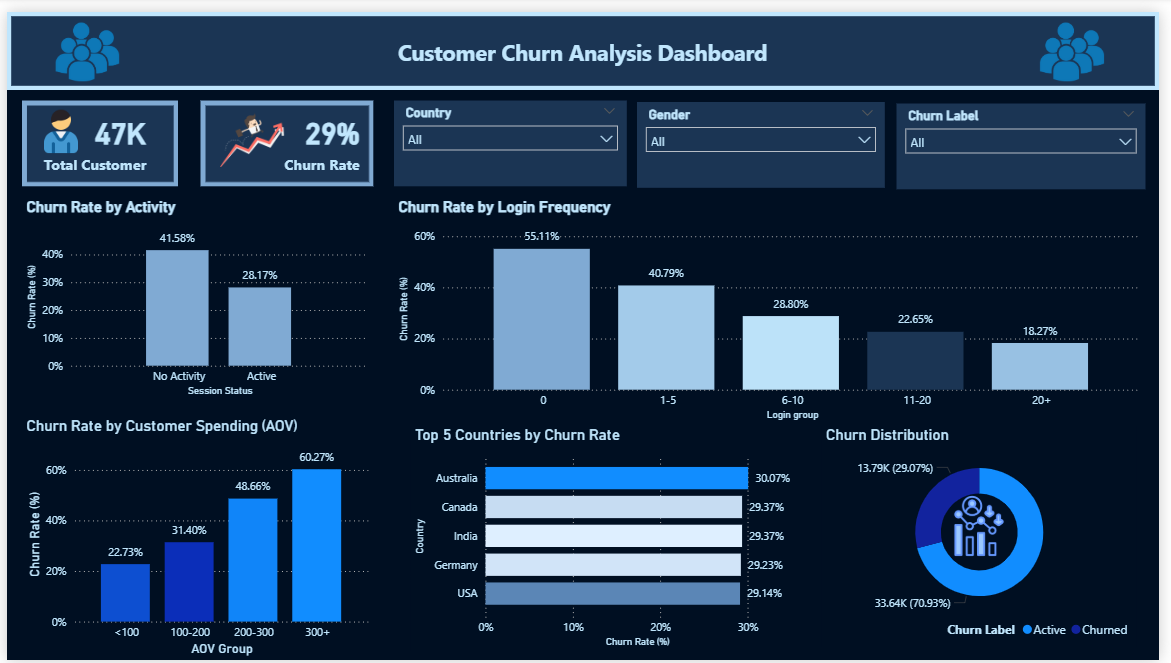

What the dashboard file says about the page in this screenshot:
{"tool":"powerbi","page":{"name":"Page 1","canvas":[1280,720],"ordinal":0},"visuals":[{"type":"advanceCardE03760C5AB684758B56AA29F9E6C257B","fields":{"mainMeasure":["customer_churn_final_202604240323.Total Customer"]},"box":[16.7,98.3,173.3,95],"z":0},{"type":"advanceCardE03760C5AB684758B56AA29F9E6C257B","fields":{"mainMeasure":["customer_churn_final_202604240323.Churn Rate"]},"box":[215,98.3,191.7,95],"z":1000},{"type":"clusteredColumnChart","title":"Churn Rate by Activity","fields":{"Category":["customer_churn_final_202604240323.session_status"],"Y":["Avg(customer_churn_final_202604240323.churned)"]},"box":[16.7,206.7,390,225],"z":2000},{"type":"clusteredColumnChart","title":"Churn Rate by Login Frequency","fields":{"Category":["customer_churn_final_202604240323.login_group"],"Y":["Avg(customer_churn_final_202604240323.churned)"]},"box":[430,206.7,835,251.7],"z":3000},{"type":"clusteredColumnChart","title":"Churn Rate by Customer Spending (AOV)","fields":{"Category":["customer_churn_final_202604240323.aov_group"],"Y":["Avg(customer_churn_final_202604240323.churned)"]},"box":[16.7,450,390,270],"z":4000},{"type":"textbox","box":[0,0,1280,86.7],"z":5000},{"type":"image","box":[43.3,11.7,91.7,65],"z":6000},{"type":"slicer","fields":{"Values":["customer_churn_final_202604240323.country"]},"box":[430,98.3,258.3,95],"z":7000},{"type":"slicer","fields":{"Values":["customer_churn_final_202604240323.gender"]},"box":[700,100,275,95],"z":8000},{"type":"image","box":[1151.7,11.7,83.3,65],"z":9000},{"type":"barChart","title":"Top 5 Countries by Churn Rate","fields":{"Category":["customer_churn_final_202604240323.country"],"Y":["Avg(customer_churn_final_202604240323.churned)"]},"box":[448.3,460,438.3,250],"z":10000},{"type":"donutChart","title":"Churn Distribution","fields":{"Y":["CountNonNull(customer_churn_final_202604240323.churned)"],"Category":["customer_churn_final_202604240323.churn_label"]},"box":[905,460,350,245],"z":11000},{"type":"slicer","fields":{"Values":["customer_churn_final_202604240323.churn_label"]},"box":[988.3,101.7,276.7,95],"z":12000},{"type":"image","box":[26.7,105,66.7,55],"z":12001},{"type":"image","box":[236.7,90,75,88.3],"z":12002},{"type":"image","box":[1045,545,81.7,58.3],"z":12003}]}

Visuals, with their boxes in screenshot pixels (x1, y1, x2, y2), scaled from the page's 1280x720 canvas onto the 1171x663 screenshot:
advanceCardE03760C5AB684758B56AA29F9E6C257B - customer_churn_final_202604240323.Total Customer: BBox(15, 91, 174, 178)
advanceCardE03760C5AB684758B56AA29F9E6C257B - customer_churn_final_202604240323.Churn Rate: BBox(197, 91, 372, 178)
"Churn Rate by Activity" clusteredColumnChart: BBox(15, 190, 372, 398)
"Churn Rate by Login Frequency" clusteredColumnChart: BBox(393, 190, 1157, 422)
"Churn Rate by Customer Spending (AOV)" clusteredColumnChart: BBox(15, 414, 372, 662)
textbox: BBox(0, 0, 1170, 80)
image: BBox(40, 11, 124, 71)
slicer - customer_churn_final_202604240323.country: BBox(393, 91, 630, 178)
slicer - customer_churn_final_202604240323.gender: BBox(640, 92, 892, 180)
image: BBox(1054, 11, 1130, 71)
"Top 5 Countries by Churn Rate" barChart: BBox(410, 424, 811, 654)
"Churn Distribution" donutChart: BBox(828, 424, 1148, 649)
slicer - customer_churn_final_202604240323.churn_label: BBox(904, 94, 1157, 181)
image: BBox(24, 97, 85, 147)
image: BBox(217, 83, 285, 164)
image: BBox(956, 502, 1031, 556)
